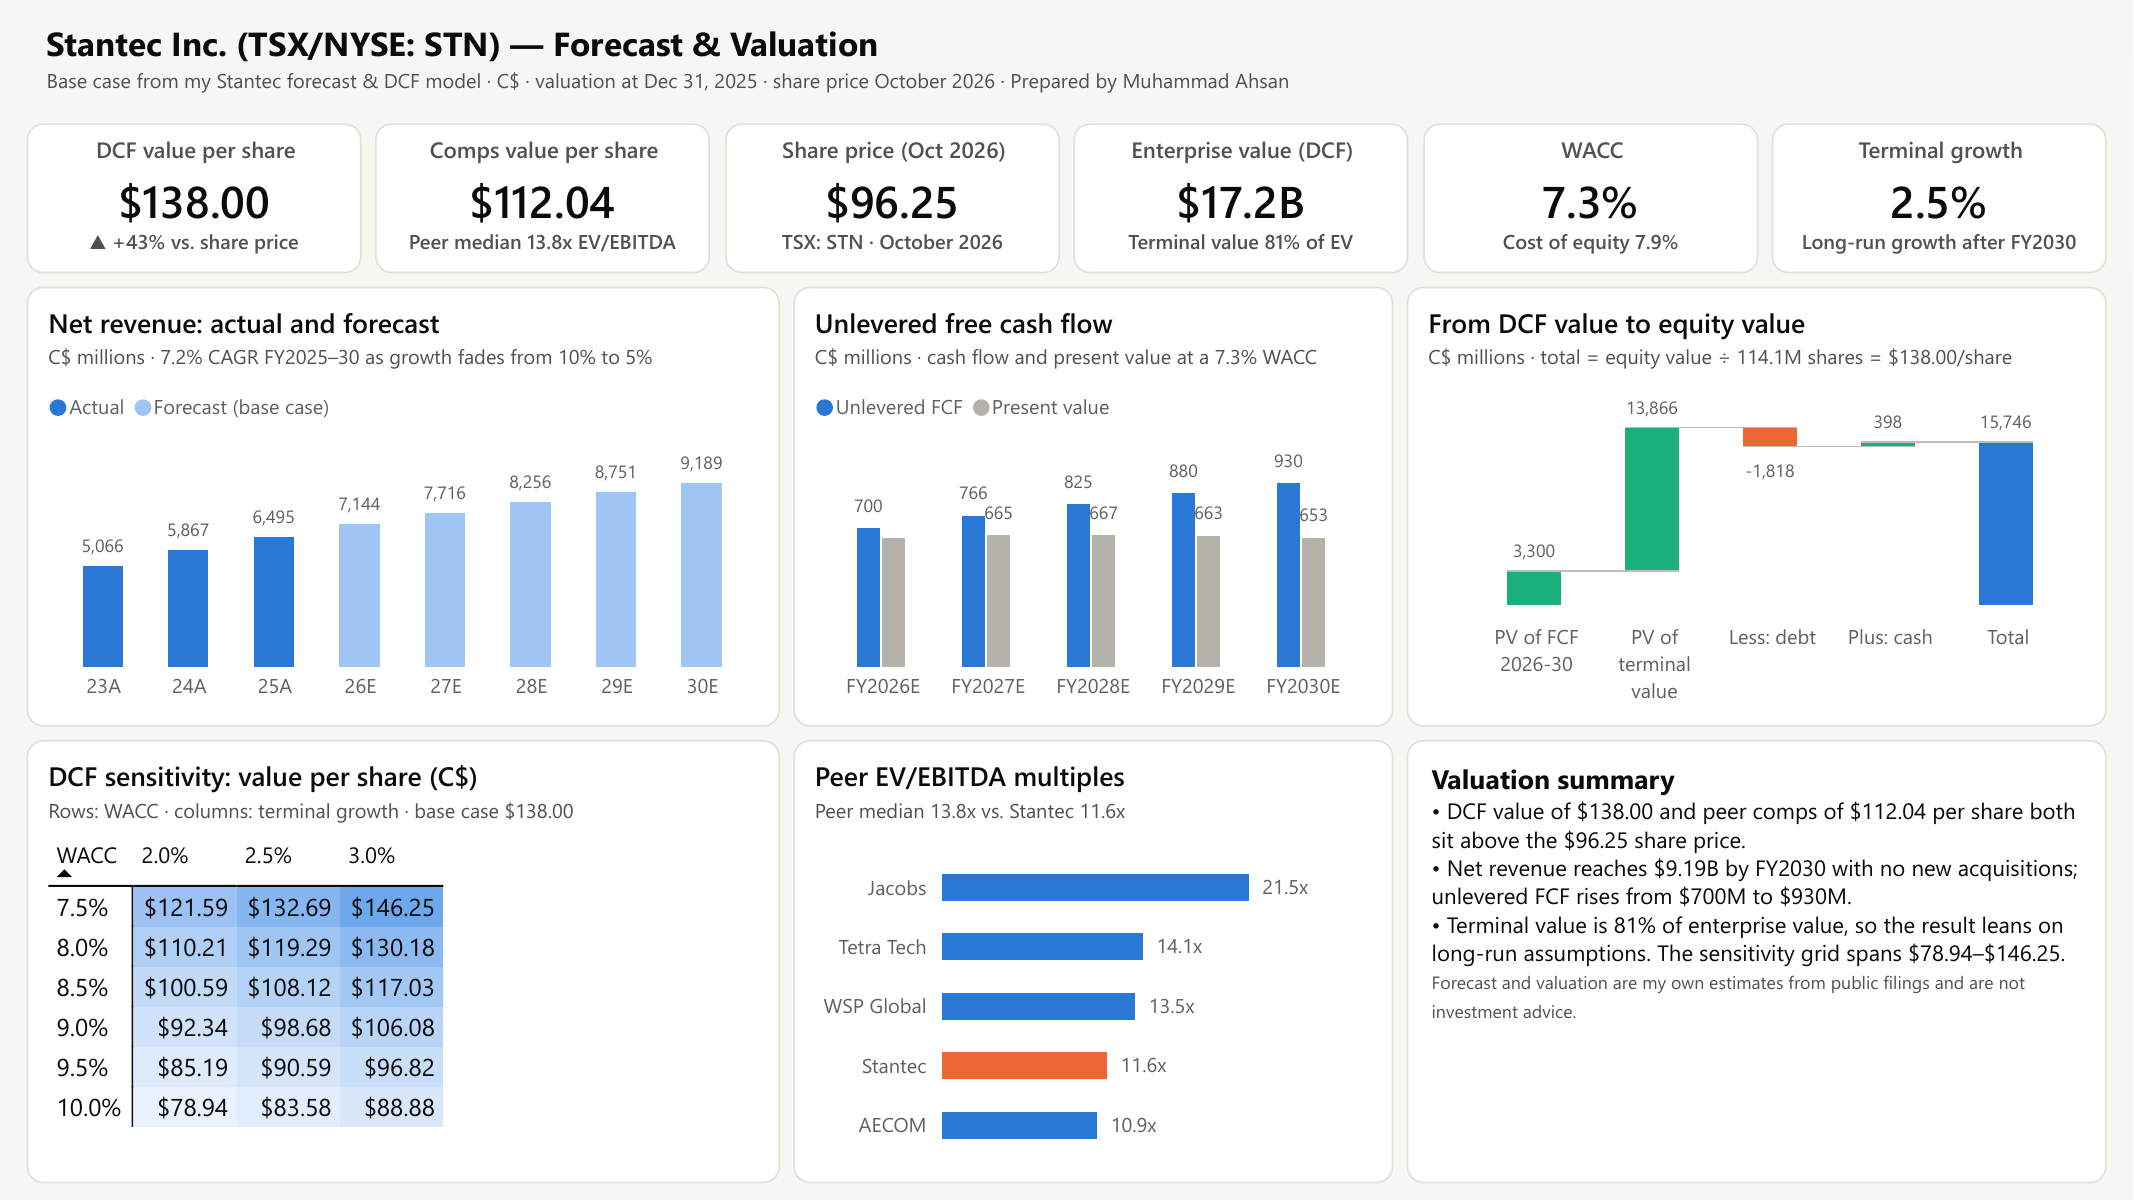

What the dashboard file says about the page in this screenshot:
{"tool":"powerbi","page":{"name":"Forecast & valuation","canvas":[1280,720],"ordinal":1},"visuals":[{"type":"textbox","box":[16,2,1100,70],"z":0},{"type":"columnChart","title":"Net revenue: actual and forecast","fields":{"Category":["DimYear.ShortLabel"],"Y":["_Measures.Net Revenue Actual","_Measures.Net Revenue Forecast"]},"box":[16,172,452,264],"z":1000},{"type":"clusteredColumnChart","title":"Unlevered free cash flow","fields":{"Category":["DimYear.ChartLabel"],"Y":["_Measures.Unlevered FCF","_Measures.PV of Unlevered FCF"]},"box":[476,172,360,264],"z":2000},{"type":"waterfallChart","title":"From DCF value to equity value","fields":{"Category":["EVBridge.Step"],"Y":["_Measures.EV Bridge Amount"]},"box":[844,172,420,264],"z":3000},{"type":"pivotTable","title":"DCF sensitivity: value per share (C$)","fields":{"Columns":["Sensitivity.TerminalGrowth"],"Rows":["Sensitivity.WACC"],"Values":["_Measures.Sensitivity Value per Share"]},"box":[16,444,452,266],"z":4000},{"type":"clusteredBarChart","title":"Peer EV/EBITDA multiples","fields":{"Category":["Comps.Company"],"Y":["_Measures.EV/EBITDA"]},"box":[476,444,360,266],"z":5000},{"type":"textbox","box":[844,444,420,266],"z":6000},{"type":"card","title":"DCF value per share","fields":{"Values":["_Measures.DCF Value per Share"]},"box":[16,74,201,90],"z":7000},{"type":"card","fields":{"Values":["_Measures.KPI DCF Upside Label"]},"box":[20,137,193,22],"z":8000},{"type":"card","title":"Comps value per share","fields":{"Values":["_Measures.Comps Value per Share"]},"box":[225.4,74,201,90],"z":9000},{"type":"card","fields":{"Values":["_Measures.KPI Comps Label"]},"box":[229.4,137,193,22],"z":10000},{"type":"card","title":"Share price (Oct 2026)","fields":{"Values":["_Measures.Share Price"]},"box":[434.8,74,201,90],"z":11000},{"type":"card","fields":{"Values":["_Measures.KPI Share Price Label"]},"box":[438.8,137,193,22],"z":12000},{"type":"card","title":"Enterprise value (DCF)","fields":{"Values":["_Measures.KPI Enterprise Value"]},"box":[644.2,74,201,90],"z":13000},{"type":"card","fields":{"Values":["_Measures.KPI Enterprise Value Label"]},"box":[648.2,137,193,22],"z":14000},{"type":"card","title":"WACC","fields":{"Values":["_Measures.WACC"]},"box":[853.6,74,201,90],"z":15000},{"type":"card","fields":{"Values":["_Measures.KPI WACC Label"]},"box":[857.6,137,193,22],"z":16000},{"type":"card","title":"Terminal growth","fields":{"Values":["_Measures.Terminal Growth"]},"box":[1063,74,201,90],"z":17000},{"type":"card","fields":{"Values":["_Measures.KPI Terminal Growth Label"]},"box":[1067,137,193,22],"z":18000}]}

Visuals, with their boxes in screenshot pixels (x1, y1, x2, y2), scaled from the page's 1280x720 canvas onto the 2134x1200 screenshot:
textbox: [x1=27, y1=3, x2=1861, y2=120]
"Net revenue: actual and forecast" columnChart: [x1=27, y1=287, x2=780, y2=727]
"Unlevered free cash flow" clusteredColumnChart: [x1=794, y1=287, x2=1394, y2=727]
"From DCF value to equity value" waterfallChart: [x1=1407, y1=287, x2=2107, y2=727]
"DCF sensitivity: value per share (C$)" pivotTable: [x1=27, y1=740, x2=780, y2=1183]
"Peer EV/EBITDA multiples" clusteredBarChart: [x1=794, y1=740, x2=1394, y2=1183]
textbox: [x1=1407, y1=740, x2=2107, y2=1183]
"DCF value per share" card: [x1=27, y1=123, x2=362, y2=273]
card - _Measures.KPI DCF Upside Label: [x1=33, y1=228, x2=355, y2=265]
"Comps value per share" card: [x1=376, y1=123, x2=711, y2=273]
card - _Measures.KPI Comps Label: [x1=382, y1=228, x2=704, y2=265]
"Share price (Oct 2026)" card: [x1=725, y1=123, x2=1060, y2=273]
card - _Measures.KPI Share Price Label: [x1=732, y1=228, x2=1053, y2=265]
"Enterprise value (DCF)" card: [x1=1074, y1=123, x2=1409, y2=273]
card - _Measures.KPI Enterprise Value Label: [x1=1081, y1=228, x2=1402, y2=265]
"WACC" card: [x1=1423, y1=123, x2=1758, y2=273]
card - _Measures.KPI WACC Label: [x1=1430, y1=228, x2=1752, y2=265]
"Terminal growth" card: [x1=1772, y1=123, x2=2107, y2=273]
card - _Measures.KPI Terminal Growth Label: [x1=1779, y1=228, x2=2101, y2=265]
